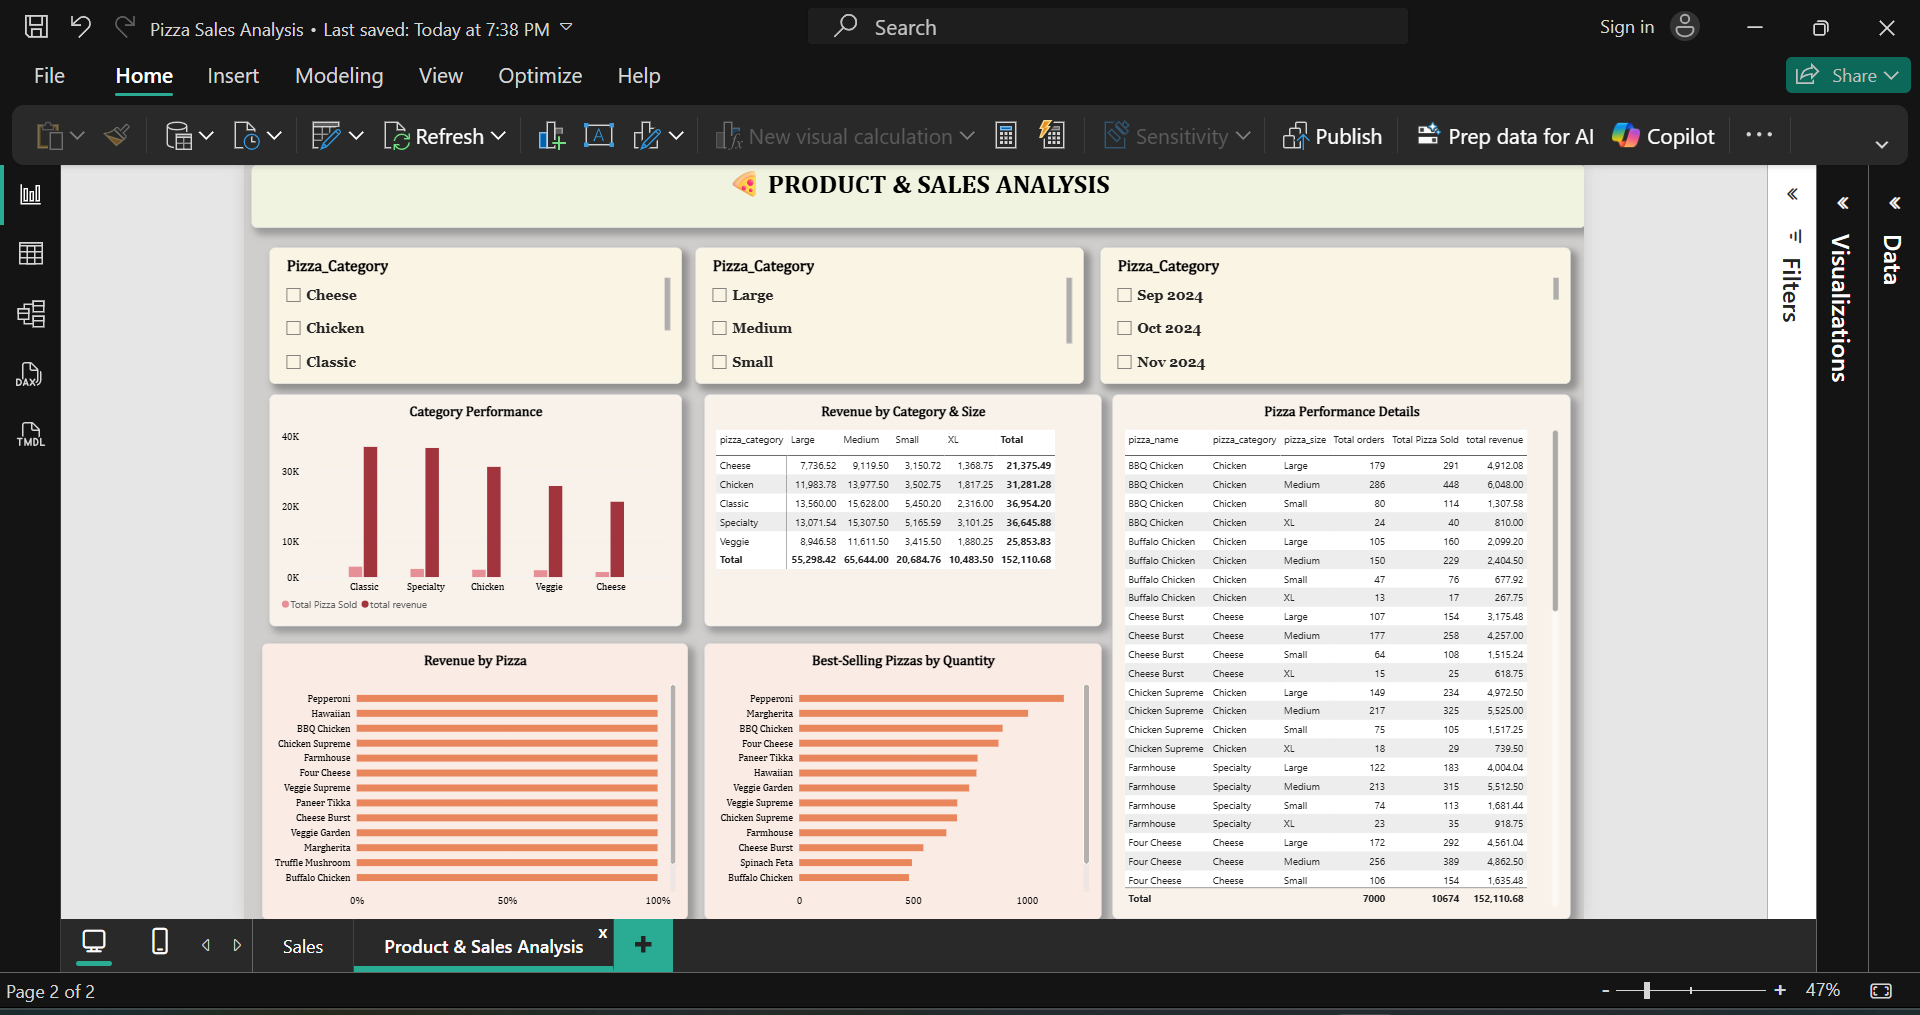

This screenshot's page, from the dashboard's own definition file:
{"tool":"powerbi","page":{"name":"Product & Sales Analysis","canvas":[1920,1080],"ordinal":1},"visuals":[{"type":"textbox","box":[9.8,0,1910.4,90.3],"z":0},{"type":"slicer","fields":{"Values":["pizza_sales.pizza_category"]},"box":[36.6,117.1,590.4,195.2],"z":1000},{"type":"slicer","fields":{"Values":["pizza_sales.pizza_size"]},"box":[646.6,117.1,556.3,195.2],"z":2000},{"type":"slicer","fields":{"Values":["DateTable.Month Year"]},"box":[1227.2,117.1,673.4,195.2],"z":3000},{"type":"hundredPercentStackedBarChart","title":"Revenue by Pizza","fields":{"Category":["pizza_sales.pizza_name"],"Y":["DateTable.total revenue"]},"box":[26.8,685.6,610,395.3],"z":4000},{"type":"clusteredBarChart","title":"Best-Selling Pizzas by Quantity","fields":{"Category":["pizza_sales.pizza_name"],"Y":["DateTable.Total Pizza Sold"]},"box":[658.8,685.6,568.5,395.3],"z":5000},{"type":"clusteredColumnChart","title":"Category Performance","fields":{"Category":["pizza_sales.pizza_category"],"Y":["DateTable.Total Pizza Sold","DateTable.total revenue"]},"box":[36.6,329.4,590.4,331.8],"z":6000},{"type":"pivotTable","title":"Revenue by Category & Size","fields":{"Columns":["pizza_sales.pizza_size"],"Rows":["pizza_sales.pizza_category"],"Values":["DateTable.total revenue"]},"box":[658.8,329.4,568.5,331.8],"z":7000},{"type":"tableEx","title":"Pizza Performance Details","fields":{"Values":["pizza_sales.pizza_name","pizza_sales.pizza_category","pizza_sales.pizza_size","DateTable.Total orders","DateTable.Total Pizza Sold","DateTable.total revenue"]},"box":[1244.3,329.4,656.3,751.5],"z":8000}]}

Visuals, with their boxes on the page's 1920x1080 design canvas (x1, y1, x2, y2). These are canvas units, not pixel positions in the 1920x1015 screenshot, which may show the page scaled, cropped or inside an application window:
textbox: (x1=10, y1=0, x2=1920, y2=90)
slicer - pizza_sales.pizza_category: (x1=37, y1=117, x2=627, y2=312)
slicer - pizza_sales.pizza_size: (x1=647, y1=117, x2=1203, y2=312)
slicer - DateTable.Month Year: (x1=1227, y1=117, x2=1901, y2=312)
"Revenue by Pizza" hundredPercentStackedBarChart: (x1=27, y1=686, x2=637, y2=1081)
"Best-Selling Pizzas by Quantity" clusteredBarChart: (x1=659, y1=686, x2=1227, y2=1081)
"Category Performance" clusteredColumnChart: (x1=37, y1=329, x2=627, y2=661)
"Revenue by Category & Size" pivotTable: (x1=659, y1=329, x2=1227, y2=661)
"Pizza Performance Details" tableEx: (x1=1244, y1=329, x2=1901, y2=1081)
